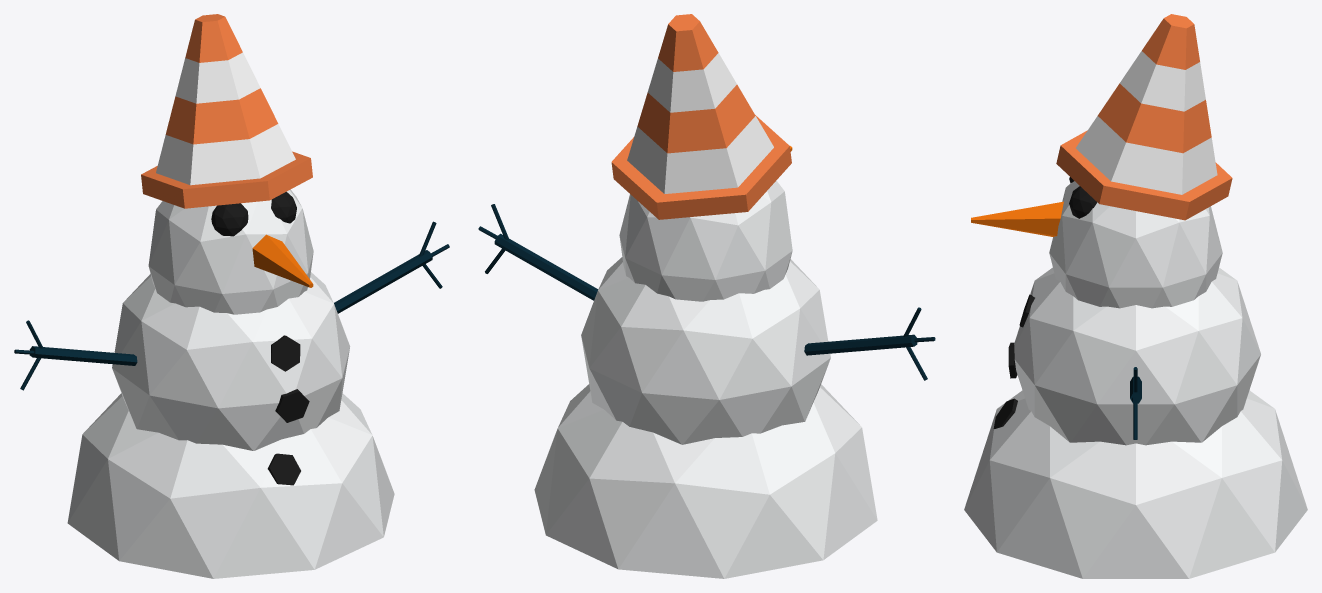
File: Mesh_Snowman_ConeHat.glb
The picture shows the model from 3 angles, left to right: view 1: azimuth 30°, elevation 25°; view 2: azimuth 150°, elevation 25°; view 3: azimuth 270°, elevation 25°; orthographic projection. The views are drawn at different scales.
Visible parts, largest first — view 1: Mesh_Snowman_ConeHat; view 2: Mesh_Snowman_ConeHat; view 3: Mesh_Snowman_ConeHat.
Part boxes in pixels (x1,y1,x2,y2): Mesh_Snowman_ConeHat: [14, 14, 449, 578]; Mesh_Snowman_ConeHat: [478, 14, 935, 578]; Mesh_Snowman_ConeHat: [964, 14, 1307, 578].
Bounding box in the file's own units: 1.07 × 1.13 × 0.7142.
1 material, 1 textured.
